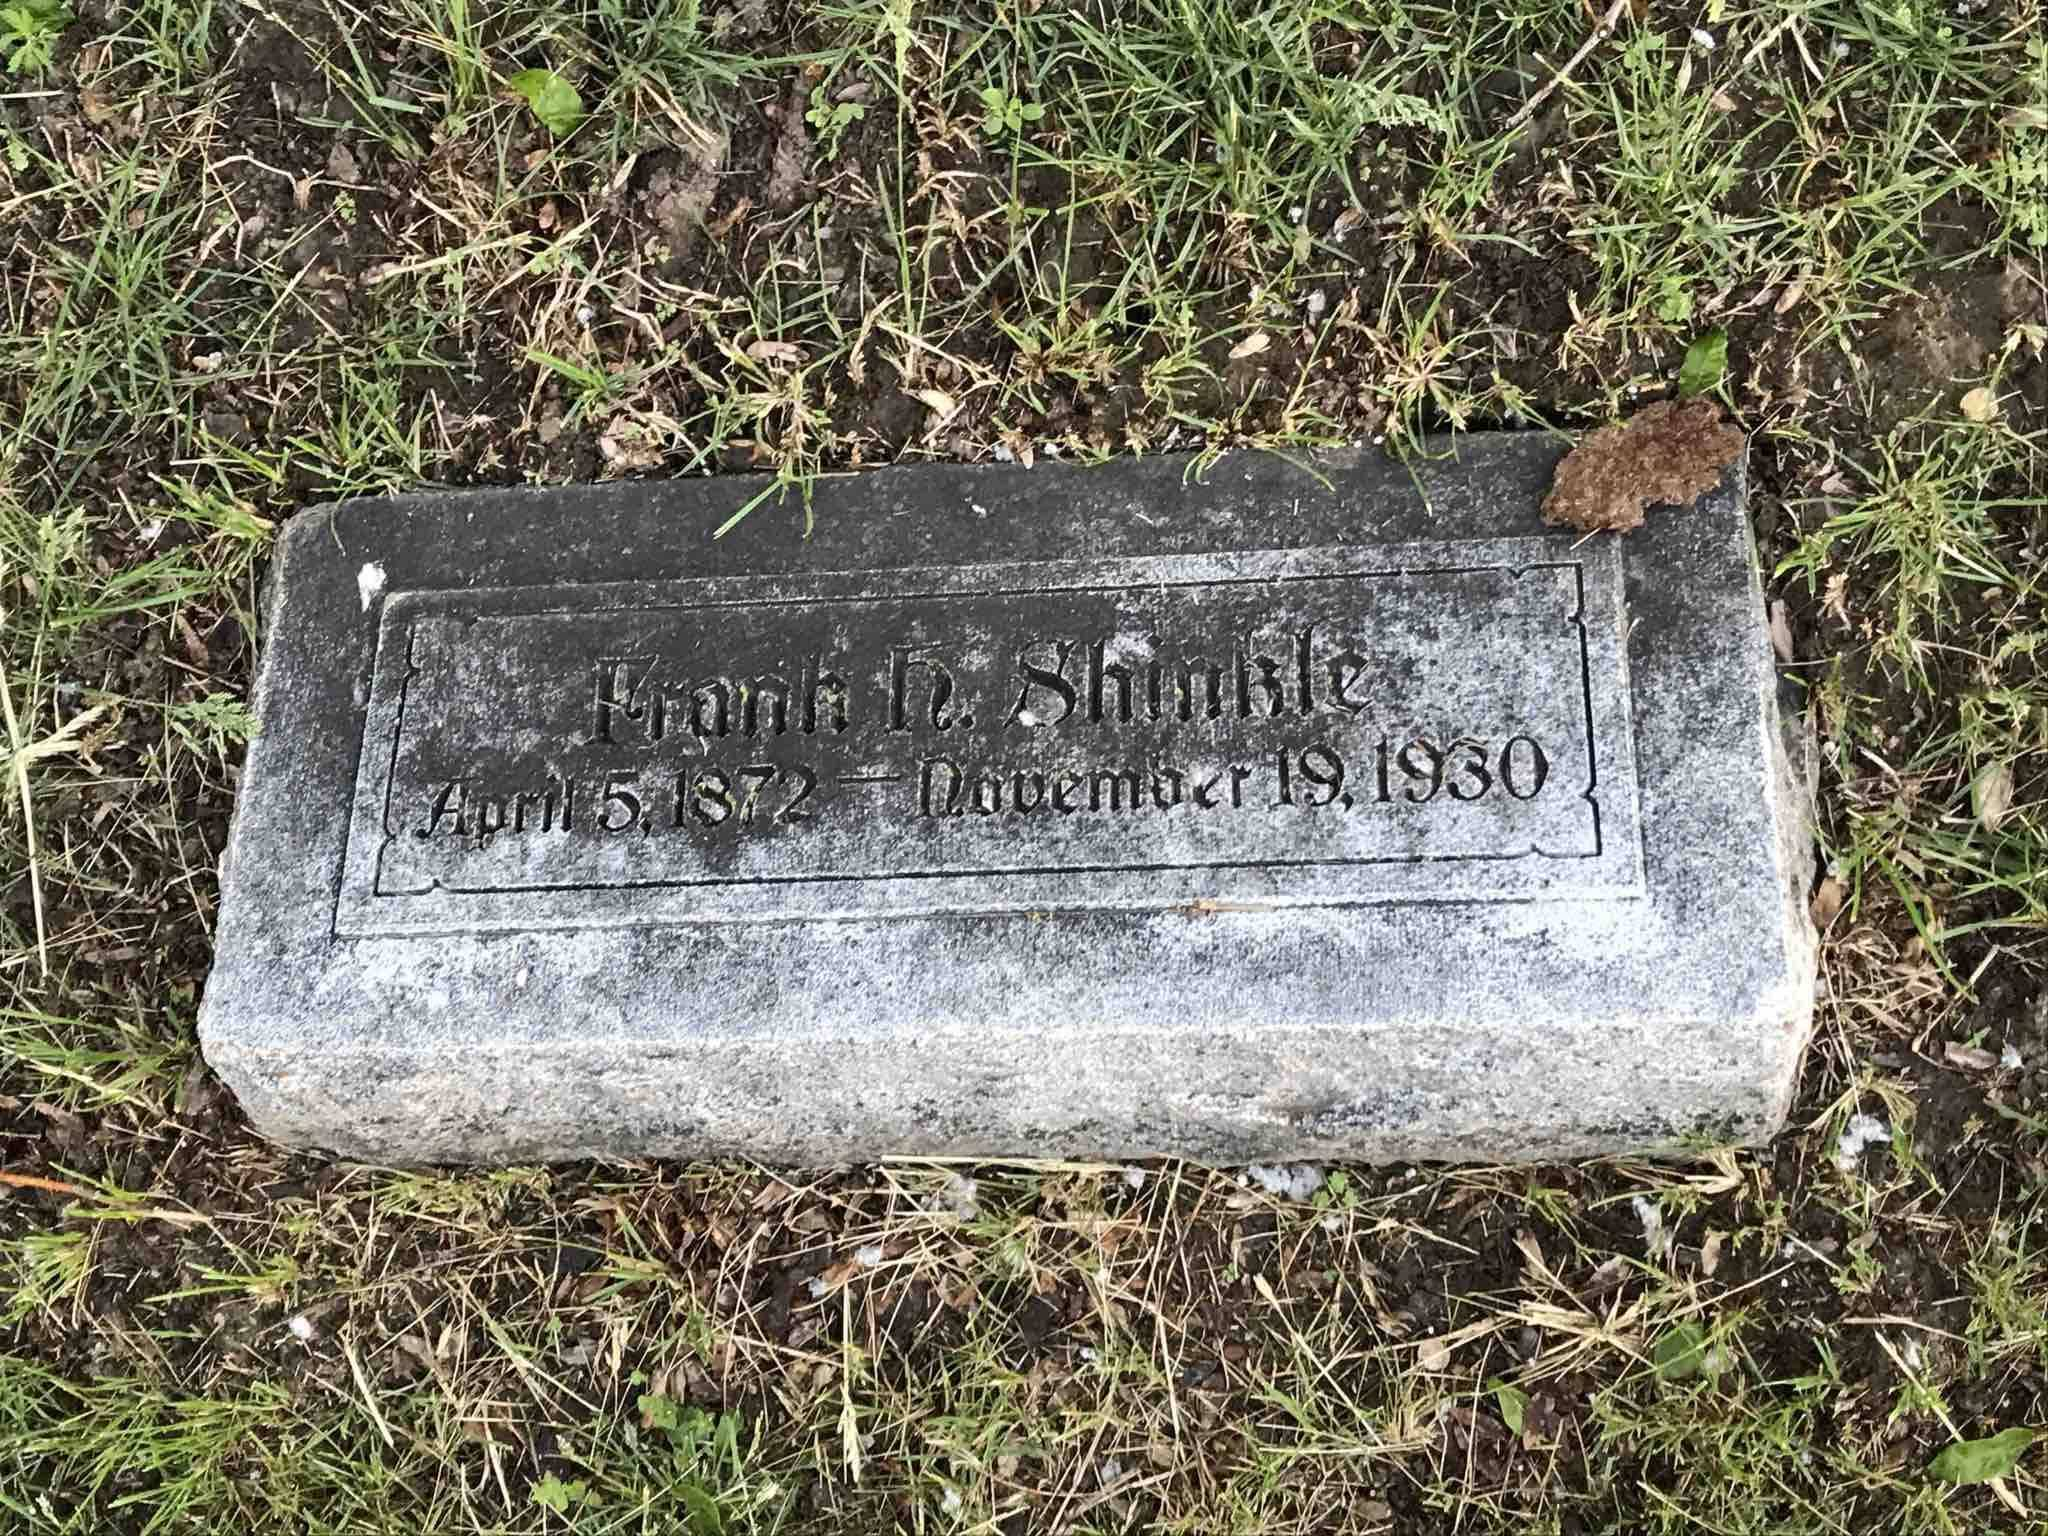flat: (197, 442, 1814, 1171)
